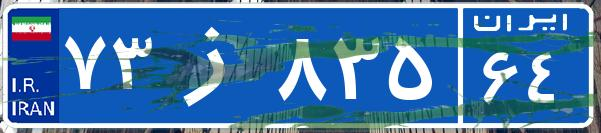3: (330, 28, 385, 110), (110, 28, 158, 105)
4: (525, 38, 570, 115)
5: (385, 28, 445, 110)
6: (475, 38, 525, 113)
7: (57, 26, 110, 107)
8: (273, 28, 330, 110)
ز: (158, 15, 273, 115)
